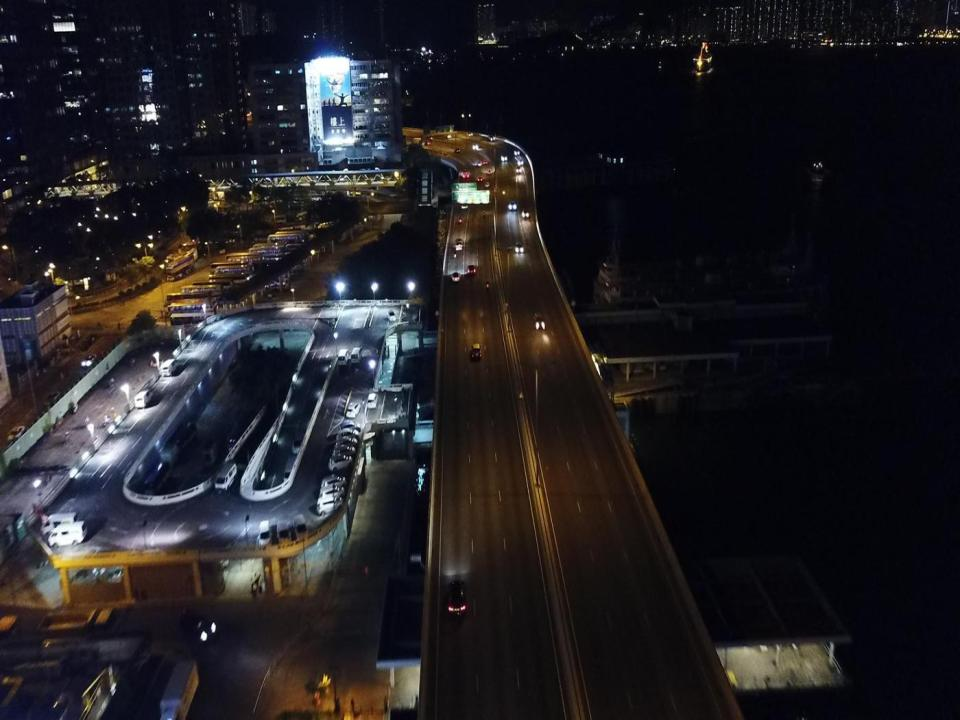bus: (144, 459, 171, 496), (168, 420, 198, 450), (166, 253, 196, 281), (166, 291, 210, 307), (180, 283, 224, 299), (169, 302, 212, 316), (207, 273, 250, 287), (210, 261, 246, 276), (193, 280, 234, 293), (252, 242, 287, 257), (216, 266, 254, 279), (227, 255, 263, 268), (275, 231, 308, 245), (249, 248, 283, 261), (267, 234, 301, 247), (225, 253, 263, 264), (270, 214, 287, 224), (296, 211, 309, 221), (463, 169, 468, 177)
car: (180, 610, 216, 642), (446, 579, 466, 617), (317, 496, 343, 515), (329, 453, 353, 472), (321, 475, 347, 492), (319, 486, 345, 502), (207, 552, 229, 569), (338, 428, 360, 442), (6, 426, 26, 441), (341, 420, 361, 434), (335, 436, 358, 448), (335, 445, 356, 458), (346, 400, 361, 417), (112, 561, 123, 583), (82, 353, 96, 367), (367, 394, 378, 408), (534, 313, 544, 328), (472, 344, 481, 358), (467, 264, 476, 276), (508, 200, 516, 211), (452, 273, 459, 282), (516, 242, 522, 252), (487, 135, 495, 142), (522, 210, 529, 218), (500, 154, 507, 161), (513, 149, 519, 155), (516, 166, 520, 174), (445, 133, 451, 138), (518, 159, 523, 165), (455, 148, 460, 153), (472, 143, 477, 148), (477, 176, 482, 181), (424, 141, 430, 145), (483, 159, 487, 164), (485, 182, 490, 186), (467, 133, 472, 136)
truck: (38, 606, 122, 650), (159, 659, 200, 719)
van: (47, 521, 88, 547), (40, 513, 79, 537), (216, 460, 237, 494), (278, 519, 292, 549), (258, 520, 272, 549), (295, 513, 308, 542), (135, 390, 151, 408), (161, 359, 176, 377), (350, 347, 363, 365), (339, 348, 348, 367), (386, 308, 396, 322), (455, 238, 463, 251), (487, 169, 492, 175), (478, 161, 482, 166)
